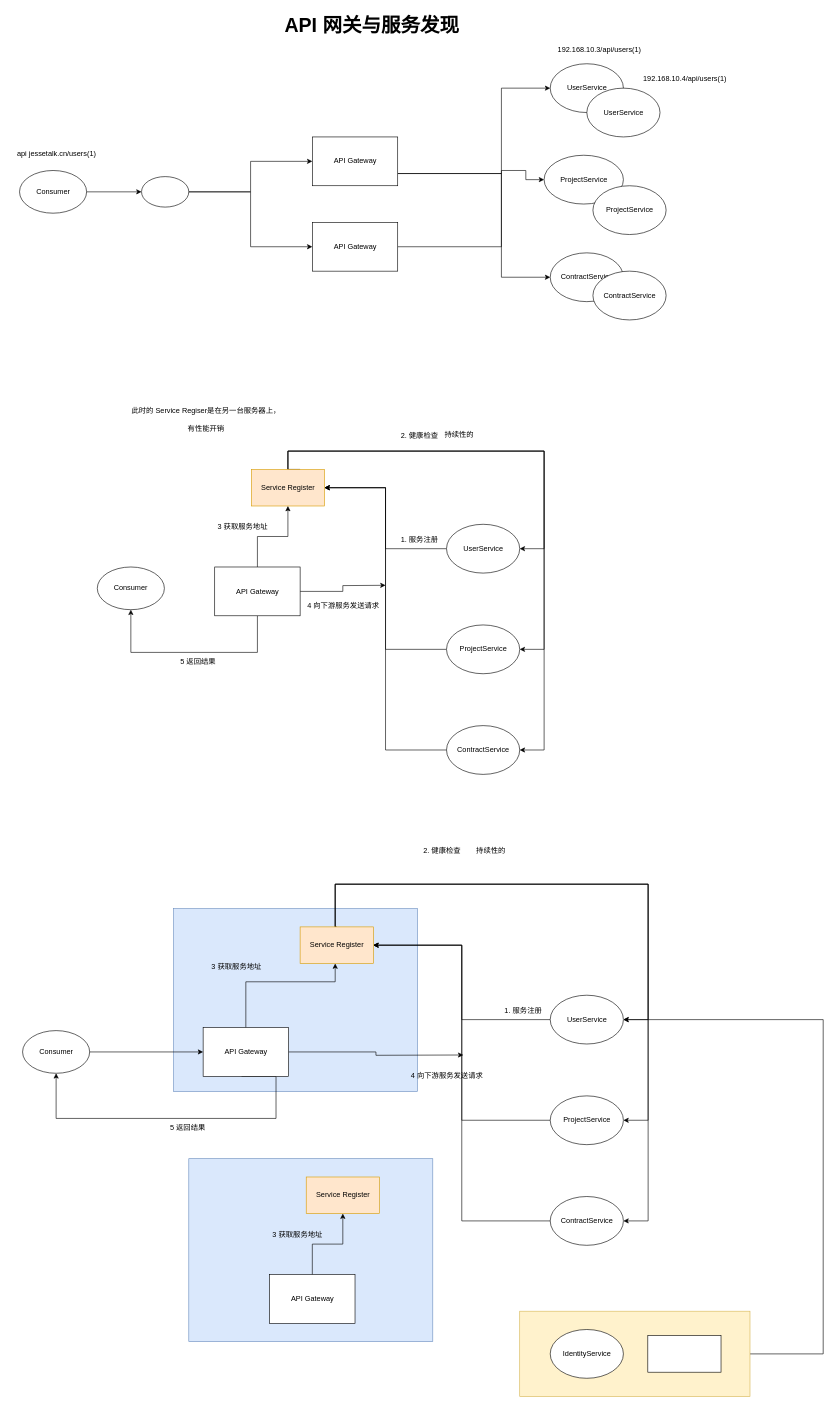
Some shapes in this 839 by 1407 pixel diagram are drawn without their labels. Here are the shapes that lost their labels. From the top down, the centre of each, then its label:
point (165, 191): LB
point (684, 1353): SideCar
